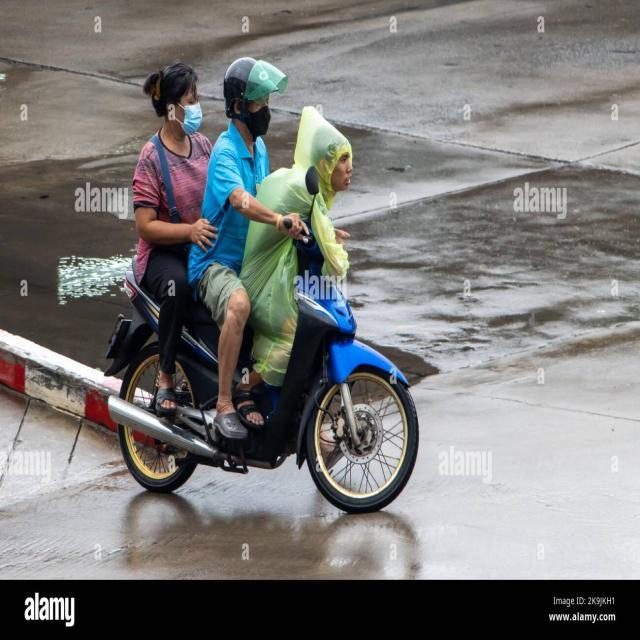Triple Riding: (104, 69, 488, 475)
